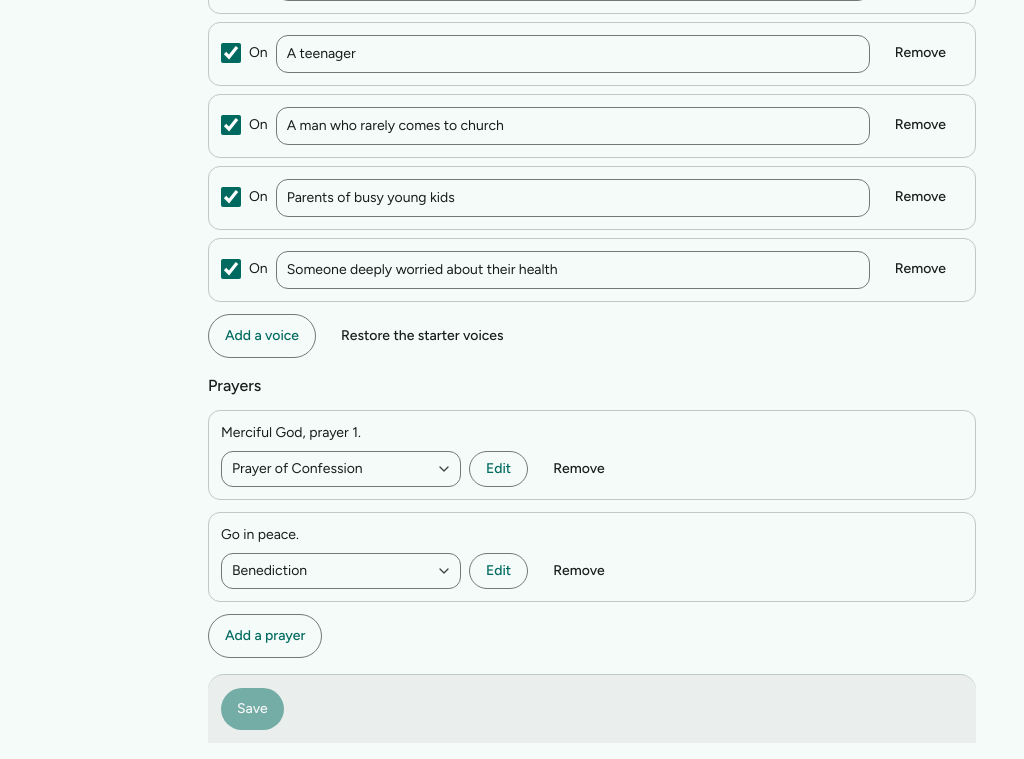
Test: Settings → Prayers (slice 6a-3b) › edits a saved prayer's type and text and sends every prayer back with its id
The width and height of the screenshot is (1024, 759).
(page scrolled)
Click the button with aria-label "Edit prayer 2" at (499, 571), box [469,553,528,589]
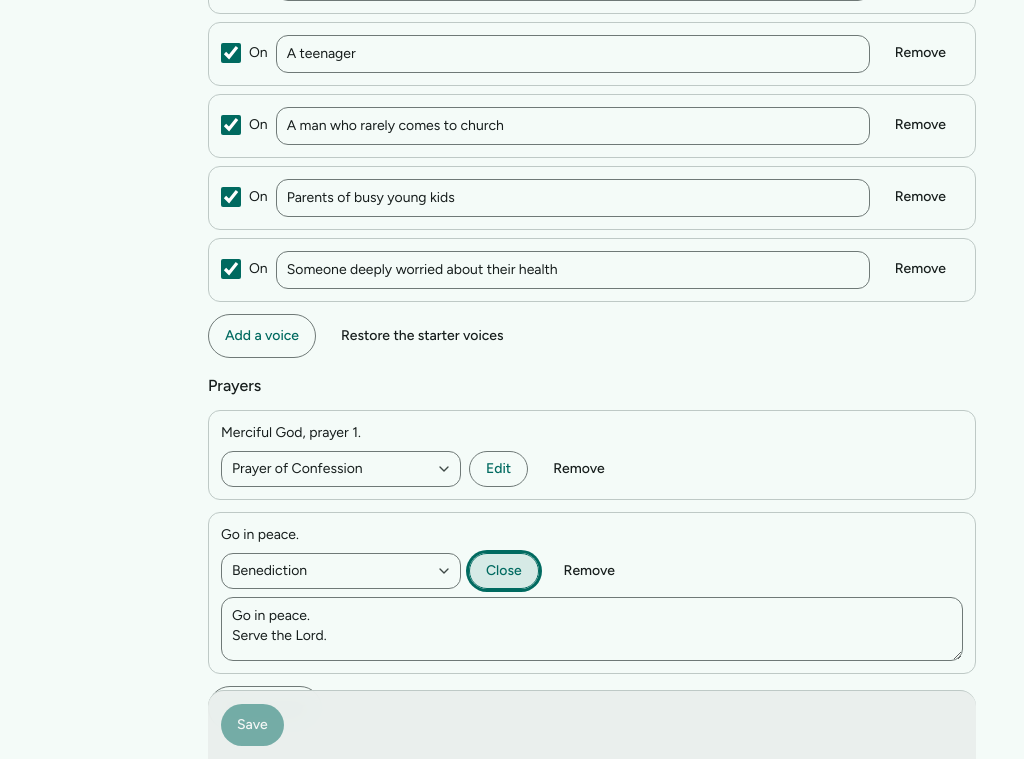
Check: the button with aria-label "Close prayer 2" is expanded, box [469,553,539,589]
Replace the text in the text box named "Prayer 2" with "Go now in peace." at (592, 629), box [221,597,963,661]
(page scrolled)
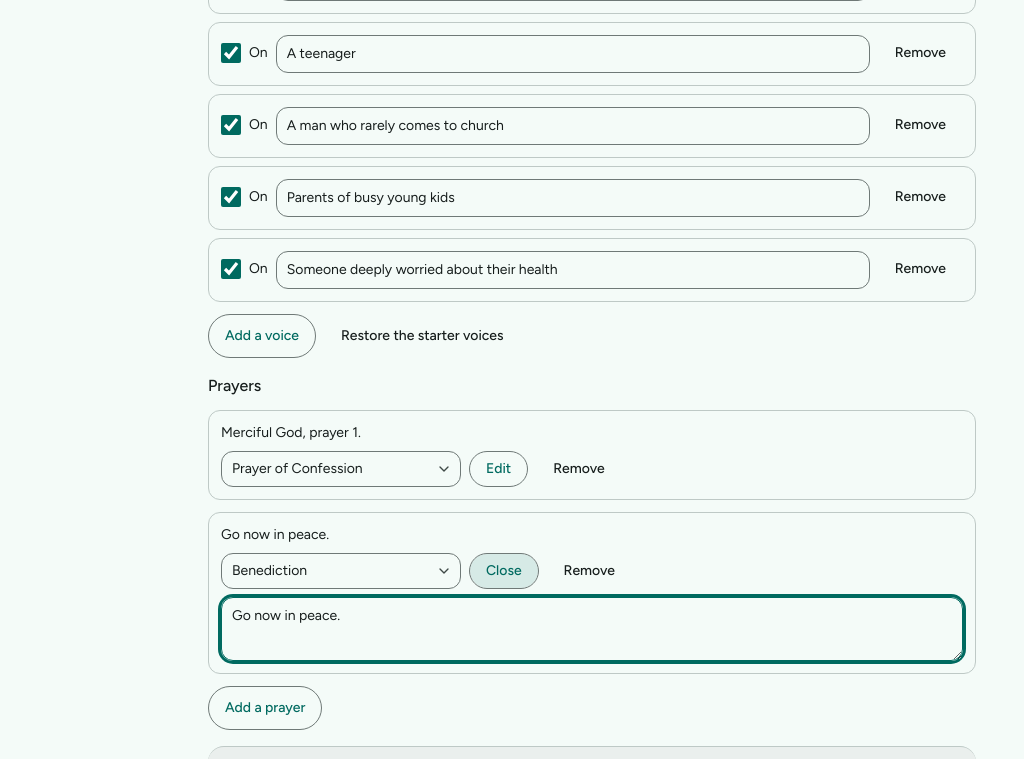
Click the dropdown labelled "Benediction ▼" at (341, 571), box [221,553,461,589]
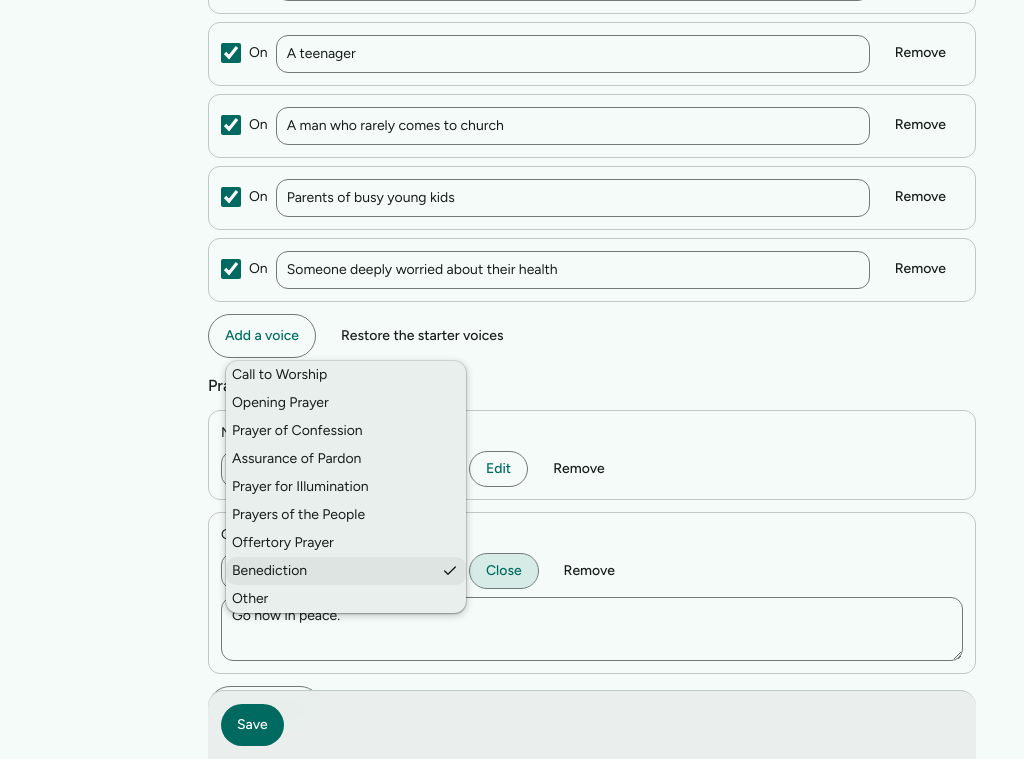
Click the option "Offertory Prayer" at (283, 542), box [232,534,334,551]
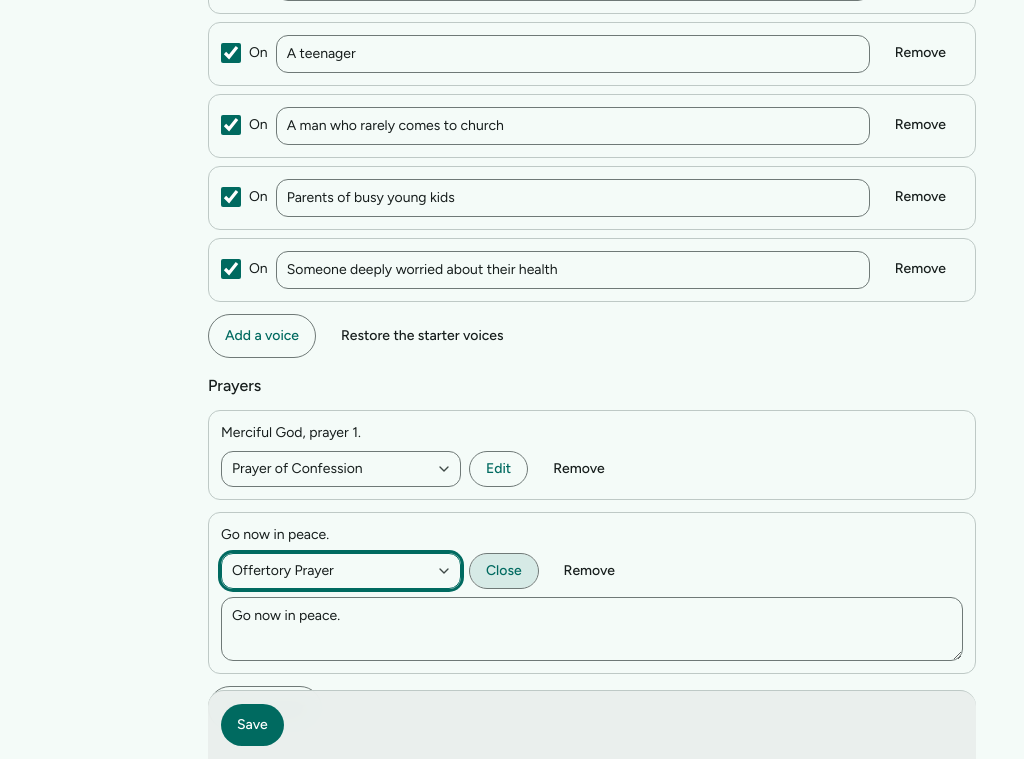
Click the button "Save" at (252, 725), box [220,703,285,747]
(page scrolled)
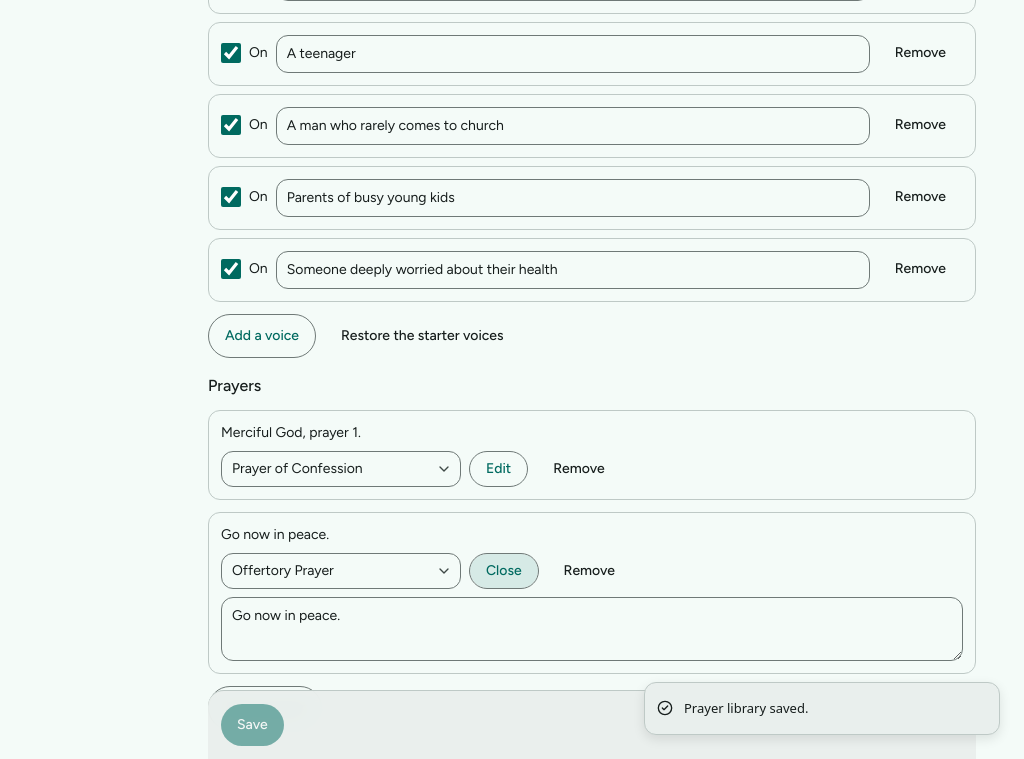
Check: the text "Prayer library saved." is shown, box [684,698,808,718]
